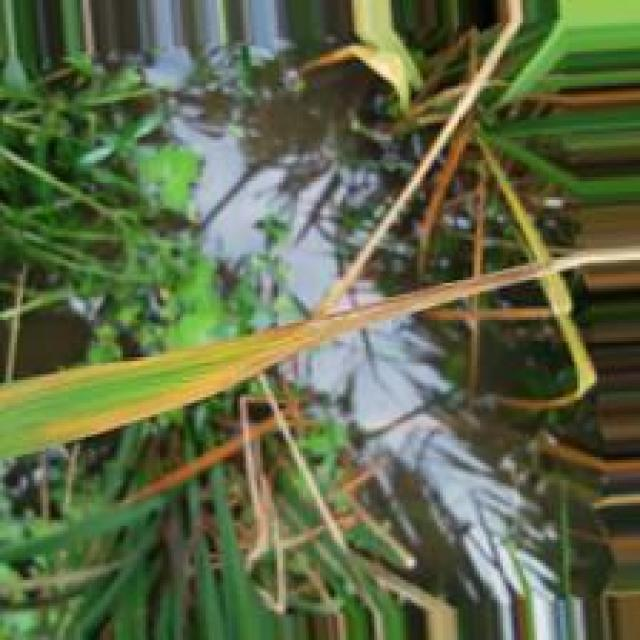Rice False Smut: (0, 273, 506, 443)
